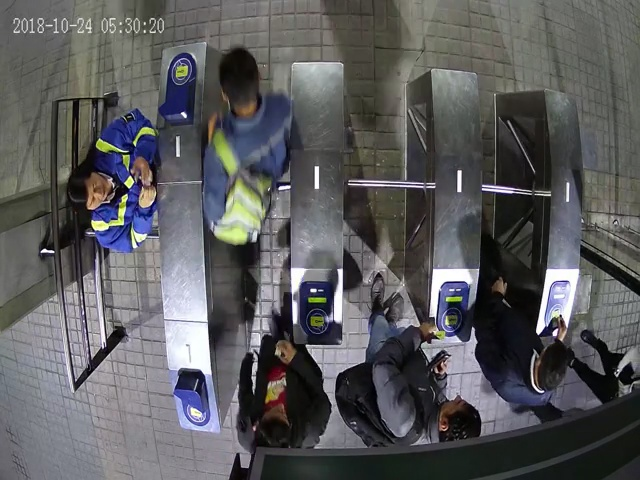Chaleco_azul: (66, 108, 160, 253)
